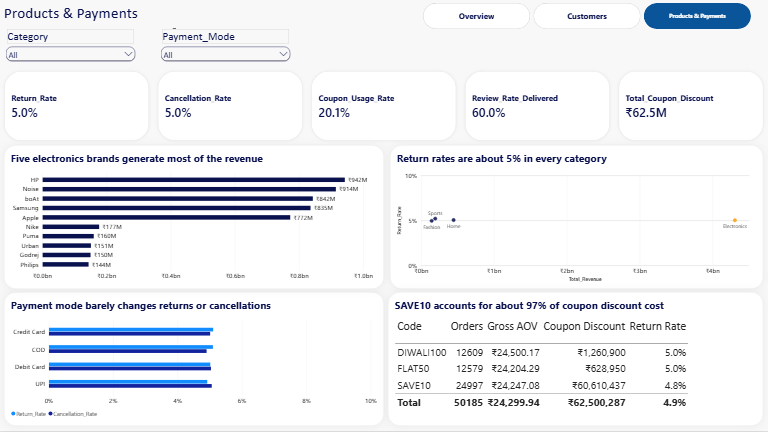

The dashboard page shown, as its layout file describes it:
{"tool":"powerbi","page":{"name":"Products & Payments","canvas":[1920,1080],"ordinal":2},"visuals":[{"type":"cardVisual","fields":{"Data":["_Measures.Return_Rate","_Measures.Cancellation_Rate","_Measures.Coupon_Usage_Rate","_Measures.Review_Rate_Delivered","_Measures.Total_Coupon_Discount"]},"box":[0,170,1920,195],"z":0},{"type":"textbox","title":"Products & Payments","box":[10,10,430,65],"z":1000},{"type":"pageNavigator","box":[1057.5,10,822.5,65],"z":2000},{"type":"clusteredBarChart","title":"Payment mode barely changes returns or cancellations","fields":{"Category":["sales.Payment_Mode"],"Y":["_Measures.Return_Rate","_Measures.Cancellation_Rate"]},"box":[10,732.5,950,335],"z":3000},{"type":"slicer","fields":{"Values":["products.Category"]},"box":[10,75,332.5,95],"z":4000},{"type":"slicer","fields":{"Values":["sales.Payment_Mode"]},"box":[397.5,75,332.5,95],"z":5000},{"type":"clusteredBarChart","title":"Five electronics brands generate most of the revenue","fields":{"Category":["products.Brand"],"Y":["_Measures.Total_Revenue"]},"box":[10,365,950,360],"z":6000},{"type":"scatterChart","title":"Return rates are about 5% in every category","fields":{"Category":["products.Category"],"X":["_Measures.Total_Revenue"],"Y":["_Measures.Return_Rate"]},"box":[975,365,932.5,360],"z":7000},{"type":"tableEx","title":"SAVE10 accounts for about 97% of coupon discount cost","fields":{"Values":["sales.Coupon_Code","_Measures.Total_Orders","_Measures.Avg_Order_Value_Gross","_Measures.Total_Coupon_Discount","_Measures.Return_Rate"]},"box":[970,732.5,937.5,335],"z":8000}]}

Visuals, with their boxes in screenshot pixels (x1, y1, x2, y2), scaled from the page's 1920x1080 canvas onto the 768x432 screenshot:
cardVisual - _Measures.Return_Rate x _Measures.Cancellation_Rate: pyautogui.locateOnScreen(0, 68, 767, 146)
"Products & Payments" textbox: pyautogui.locateOnScreen(4, 4, 176, 30)
pageNavigator: pyautogui.locateOnScreen(423, 4, 752, 30)
"Payment mode barely changes returns or cancellations" clusteredBarChart: pyautogui.locateOnScreen(4, 293, 384, 427)
slicer - products.Category: pyautogui.locateOnScreen(4, 30, 137, 68)
slicer - sales.Payment_Mode: pyautogui.locateOnScreen(159, 30, 292, 68)
"Five electronics brands generate most of the revenue" clusteredBarChart: pyautogui.locateOnScreen(4, 146, 384, 290)
"Return rates are about 5% in every category" scatterChart: pyautogui.locateOnScreen(390, 146, 763, 290)
"SAVE10 accounts for about 97% of coupon discount cost" tableEx: pyautogui.locateOnScreen(388, 293, 763, 427)
